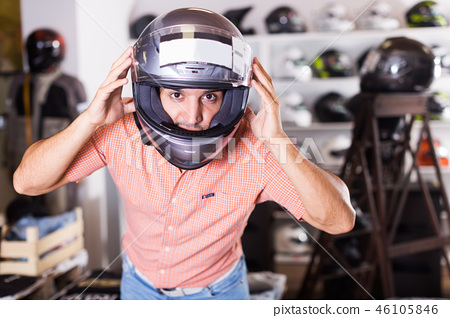helmet: (129, 11, 248, 153)
